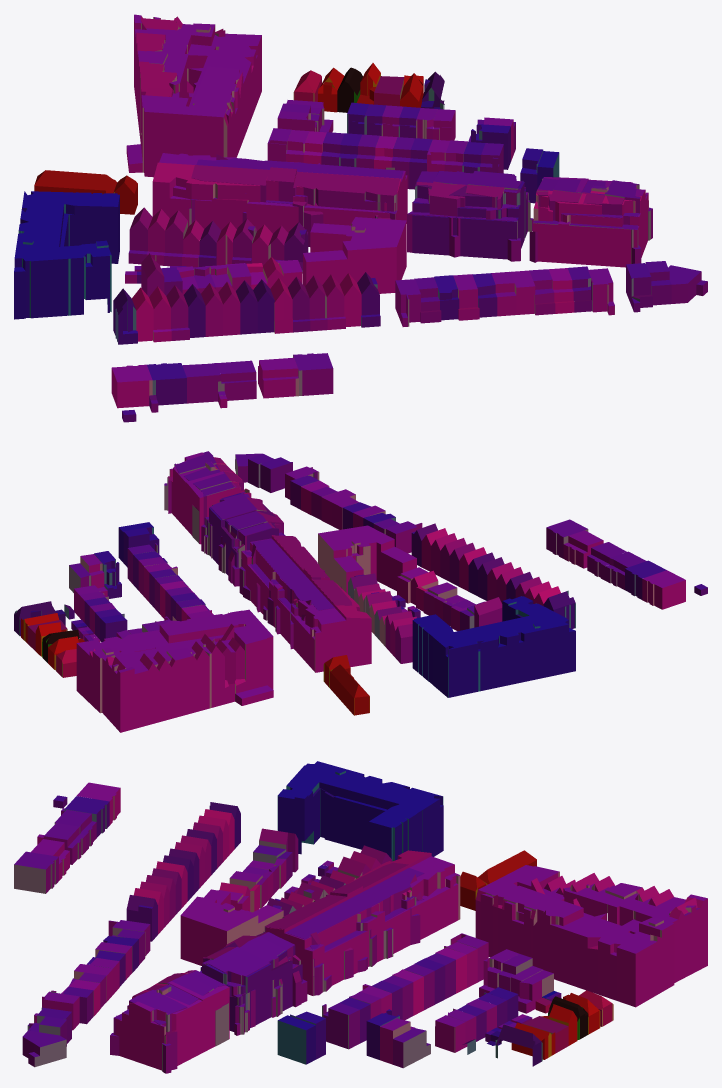
File: buildings_11_12.glb
3 renders of one model, top to bottom at view 1: azimuth 30°, elevation 25°; view 2: azimuth 150°, elevation 25°; view 3: azimuth 270°, elevation 25°, orthographic. The views are drawn at different scales.
Visible parts, largest first — view 1: buildings_11_12; view 2: buildings_11_12; view 3: buildings_11_12.
Boxes of the visible parts, left/top/right/bottom form: buildings_11_12: left=14, top=14, right=707, bottom=422; buildings_11_12: left=14, top=451, right=707, bottom=732; buildings_11_12: left=14, top=761, right=707, bottom=1073.
Size of the model in its own units: 210 by 25.37 by 227.
